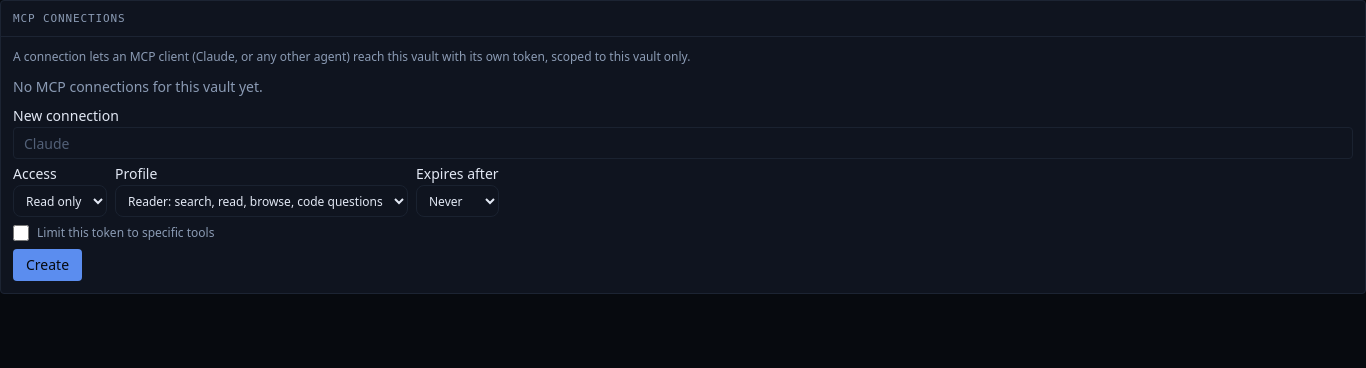
Test: VaultMcpPanel › the allow-list leaves out tools that need more than the user's own permission on the vault (#649)
Expected: the text "No MCP connections for this vault yet." is shown, [13,77,263,96]
# The admin profile, so only the vault permission leaves tools out.
Select "Admin: every tool the access allows" in the dropdown labelled "Profile": (262, 201) [115,185,408,217]
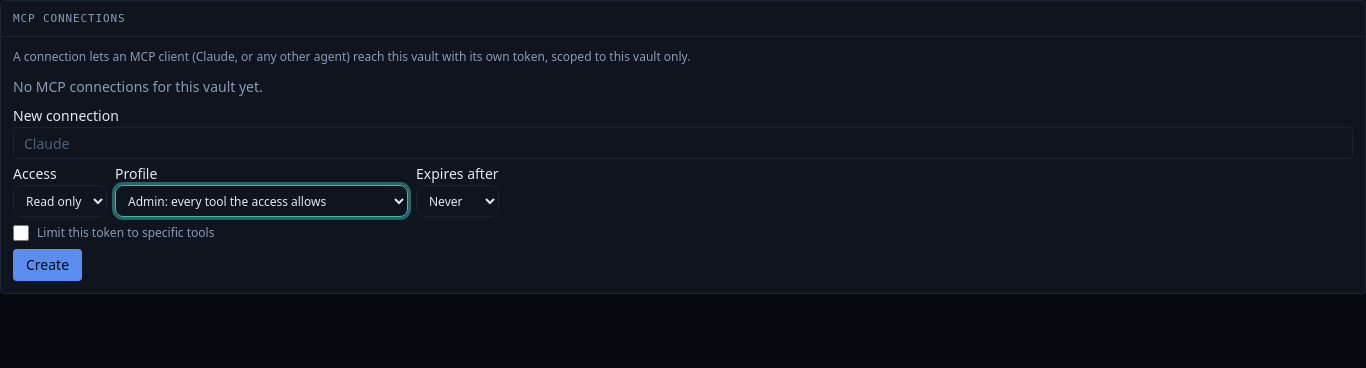
Click the checkbox labelled "Limit this token to specific tools": (21, 233) [13,225,29,241]
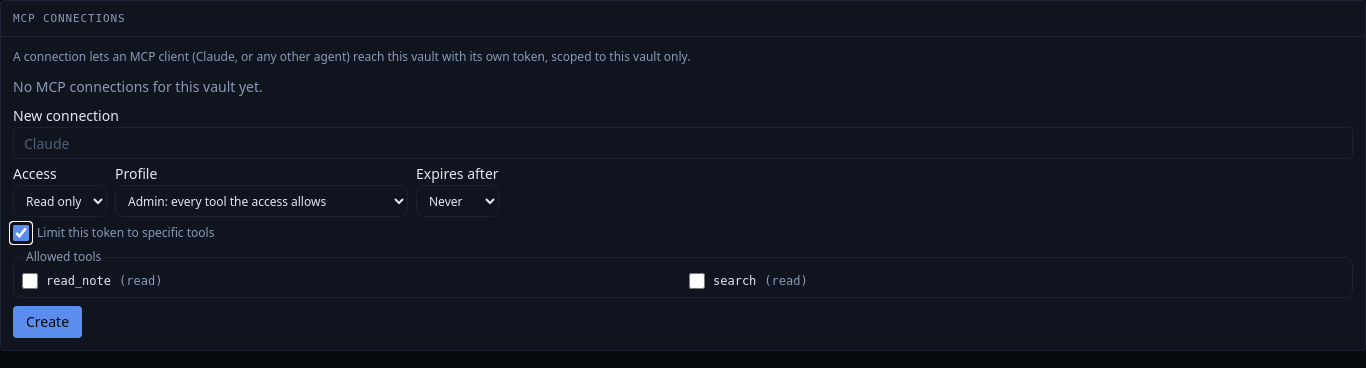
Expected: the checkbox labelled "read_note (read)" is shown, [22,273,38,289]
Expected: the checkbox labelled "search (read)" is shown, [689,273,705,289]
